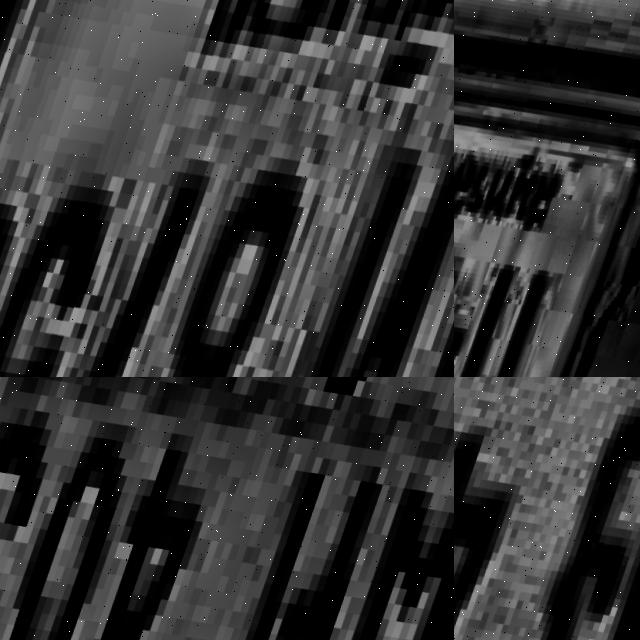license-plate: (0, 0, 454, 377), (0, 377, 454, 640), (454, 56, 640, 377), (454, 377, 640, 640)
